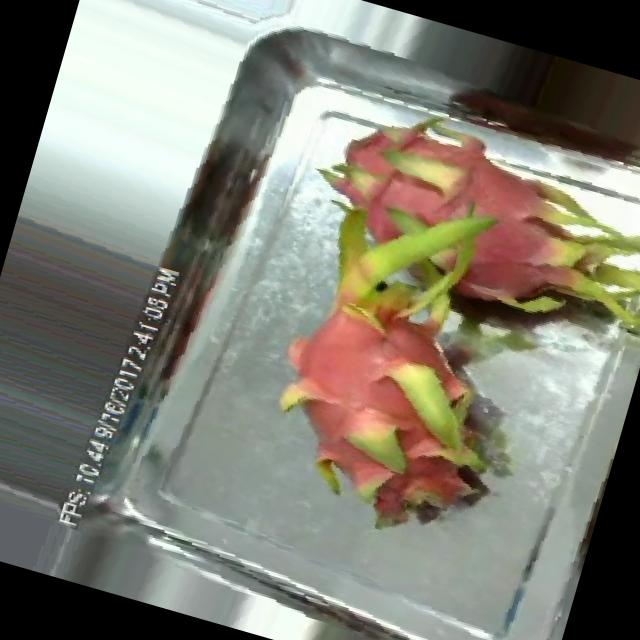Fruit: (411, 166, 626, 349)
